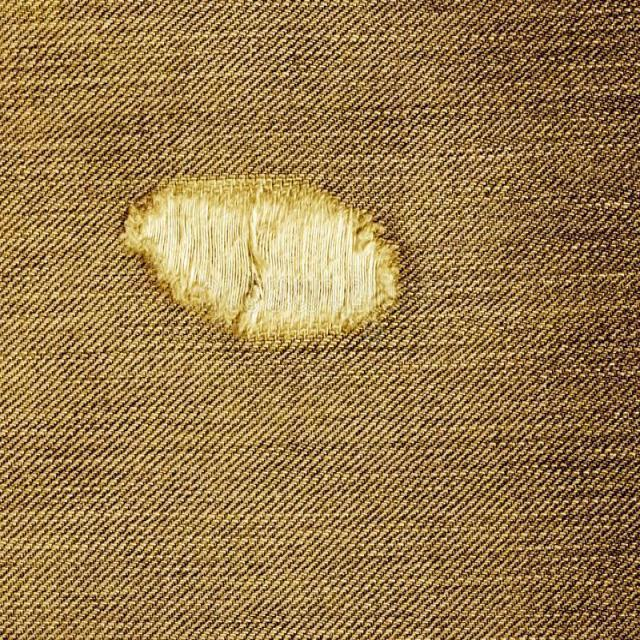Hole: (124, 178, 399, 339)
